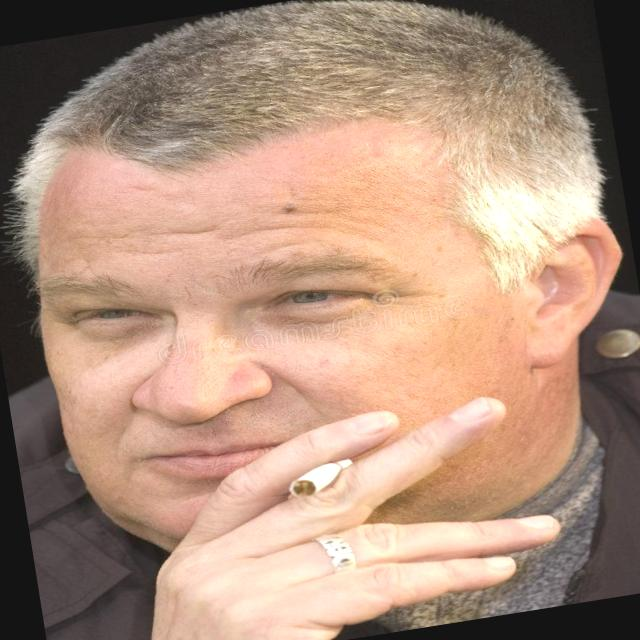smoke: (263, 438, 376, 516)
